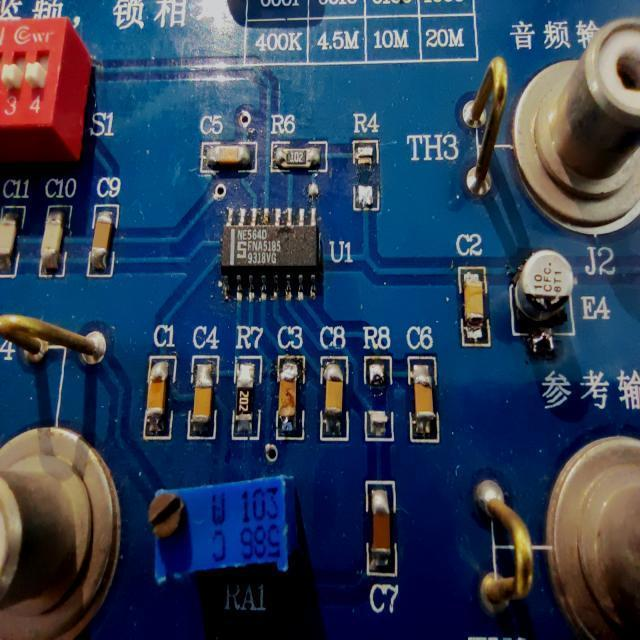Missing component: (359, 324, 397, 444), (349, 110, 382, 213)
